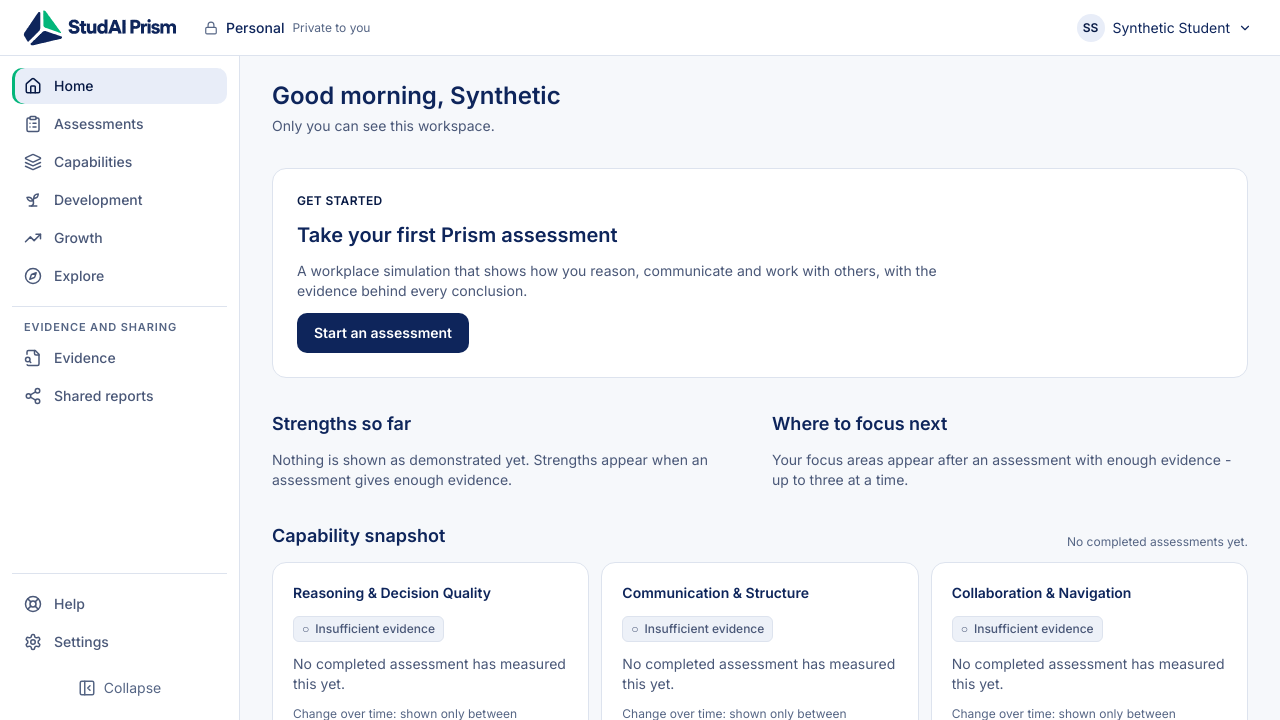
AppRouter — PRISM_APP_SHELL_V3 on › the primary nav marks the current page and navigates
The image size is (1280, 720).
Click the link "Capabilities". click: (78, 162)
box: [24, 153, 132, 171]
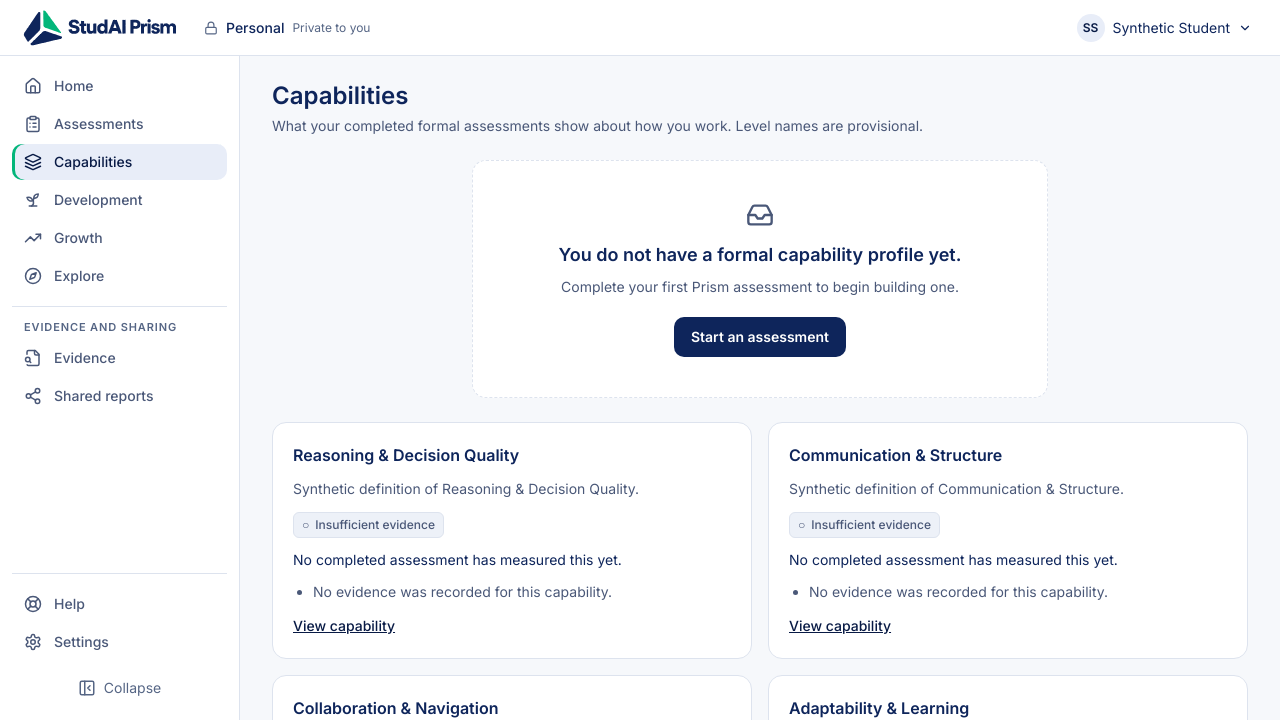
Now the heading "You do not have a formal capability profile yet." is shown, box [559, 241, 961, 269]
